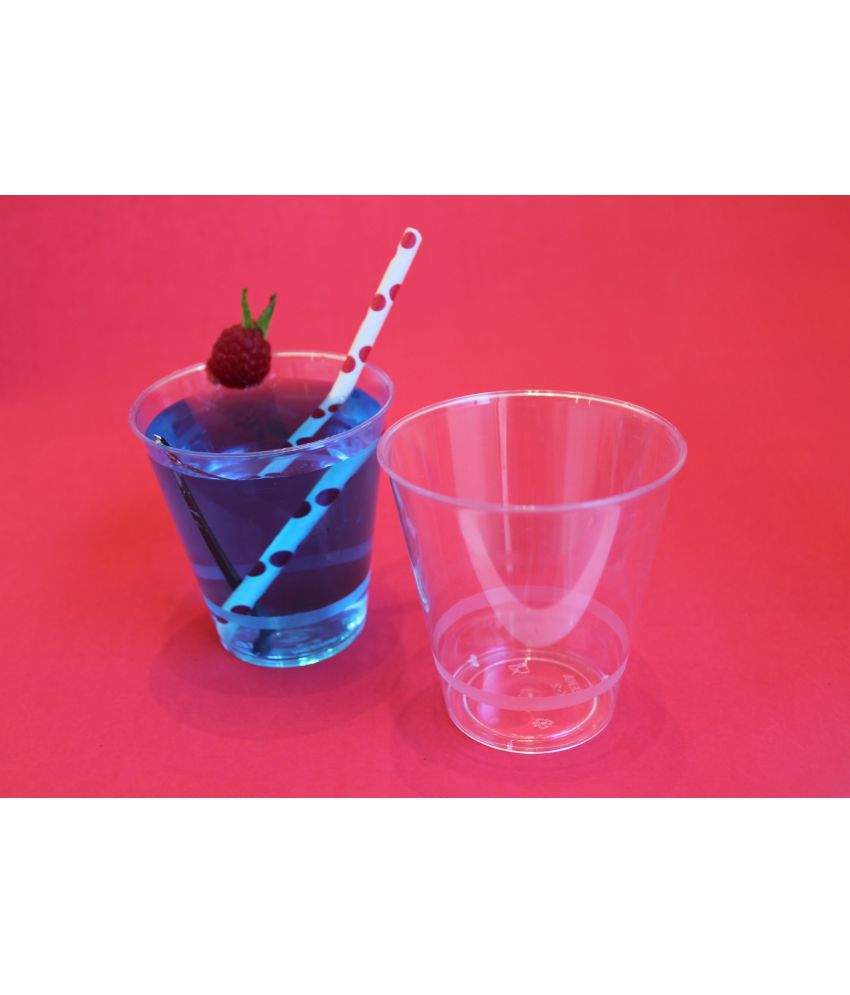plastic_glass: (371, 384, 693, 761), (129, 344, 395, 682)
